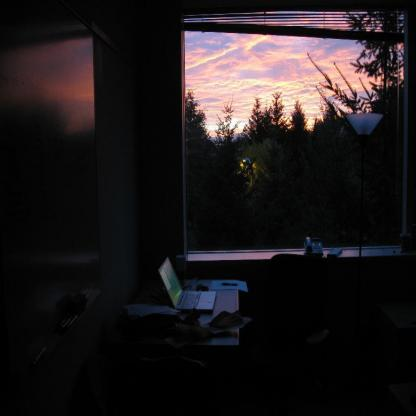board: (156, 256, 216, 316)
